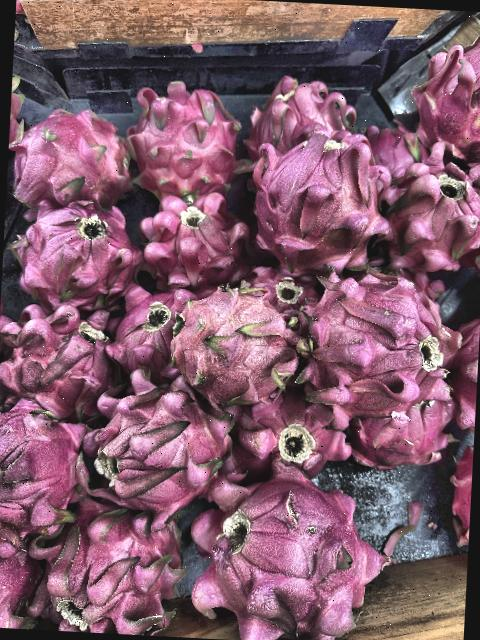buah-naga-matang: (176, 478, 407, 640), (280, 262, 468, 421), (243, 128, 389, 282), (80, 379, 245, 513), (153, 264, 299, 413), (36, 514, 197, 638), (119, 72, 246, 204), (0, 296, 120, 420), (225, 386, 361, 494), (0, 394, 96, 546), (6, 202, 149, 303), (336, 374, 465, 484), (96, 265, 200, 391), (10, 105, 132, 212), (388, 138, 480, 278), (246, 64, 362, 166), (129, 197, 255, 286)
